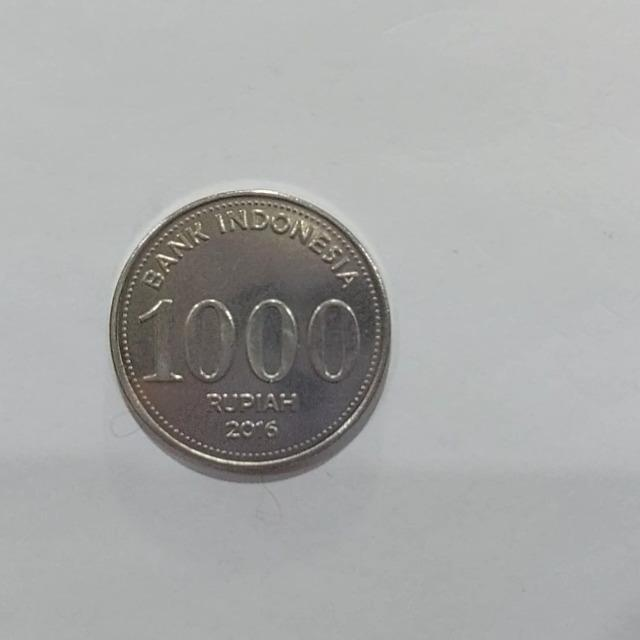Rp100: (107, 187, 392, 482)
